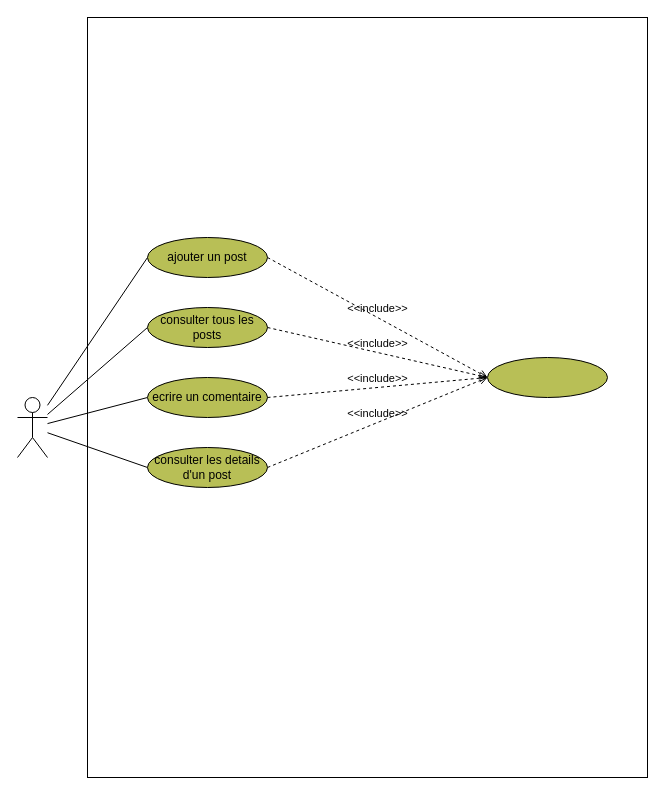
Some shapes in this 665 by 795 pixel diagram are drawn without their labels. The box of each missing label's shape, as (x1, y1, x2, y2) in pixels:
authentication: (486, 356, 608, 398)
User: (16, 396, 48, 458)
